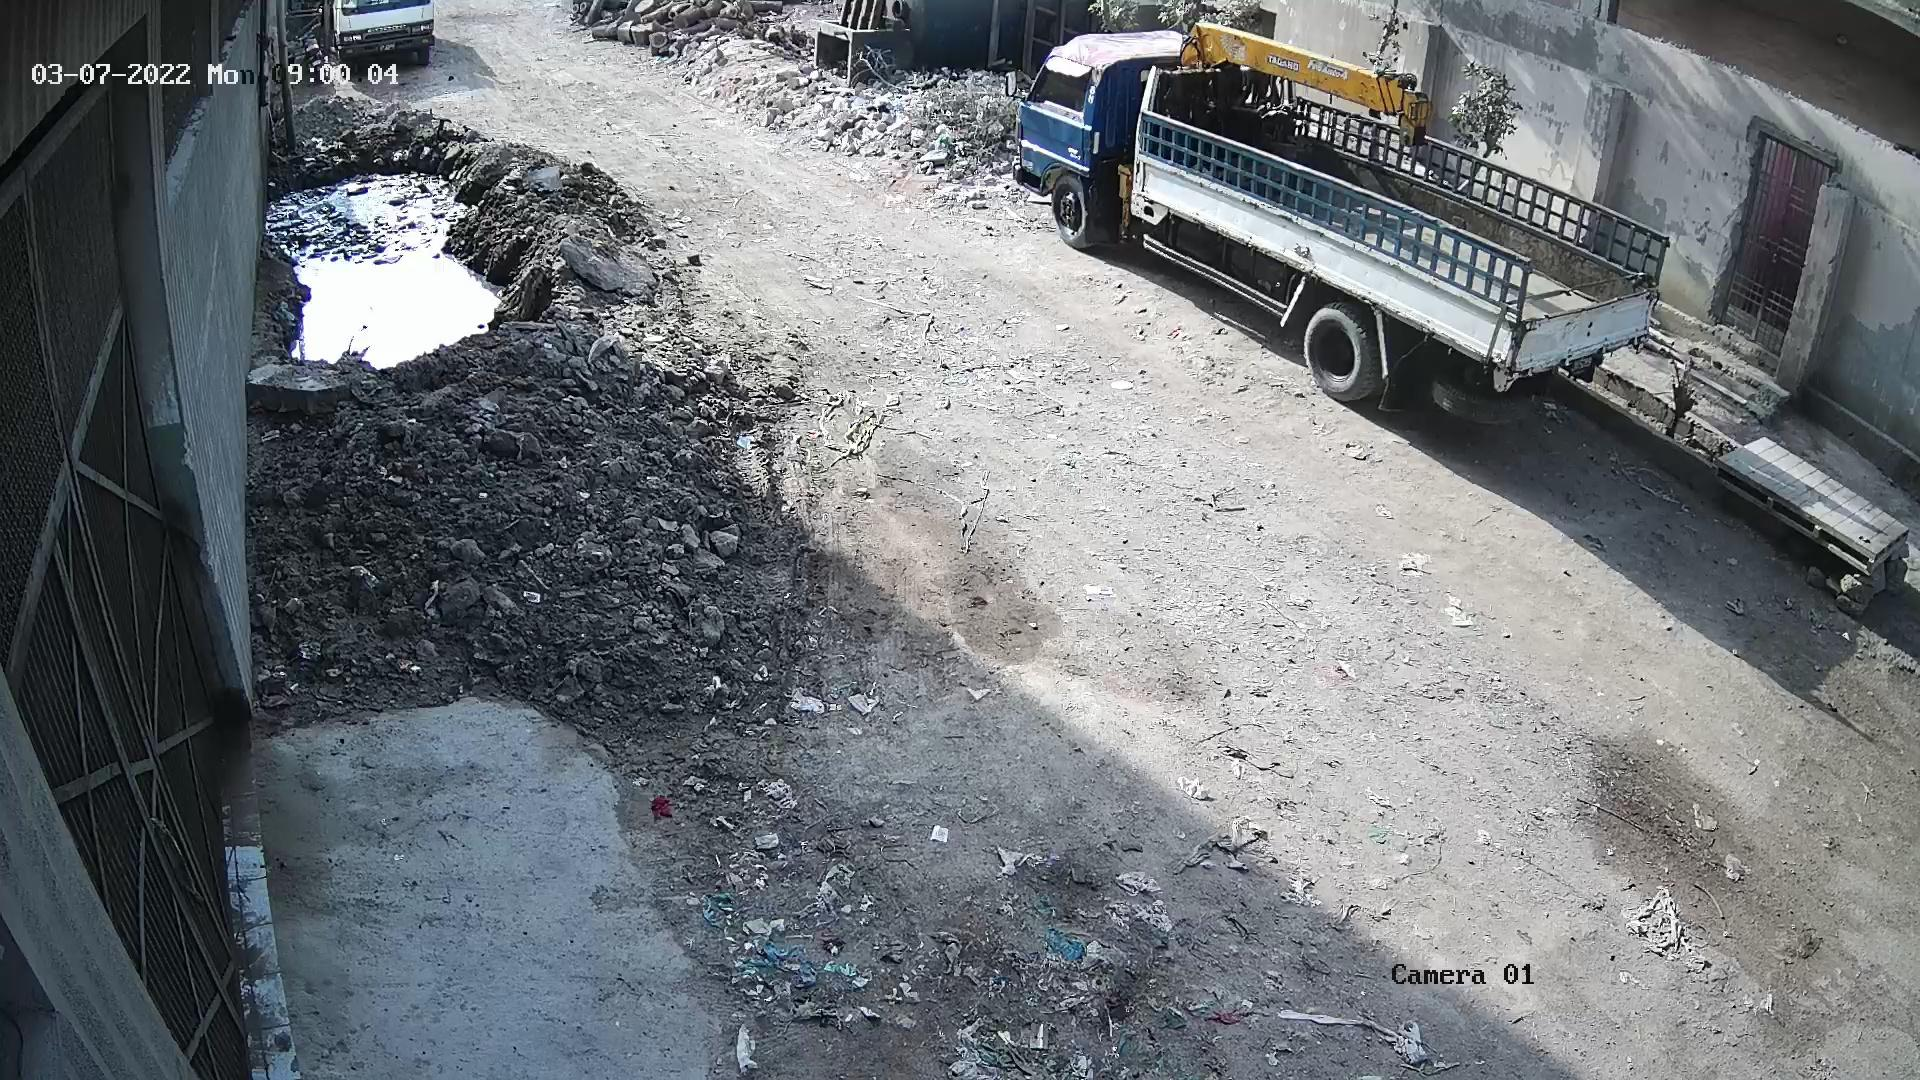bike: (303, 32, 326, 87)
other: (1018, 33, 1665, 413), (336, 0, 438, 73)
